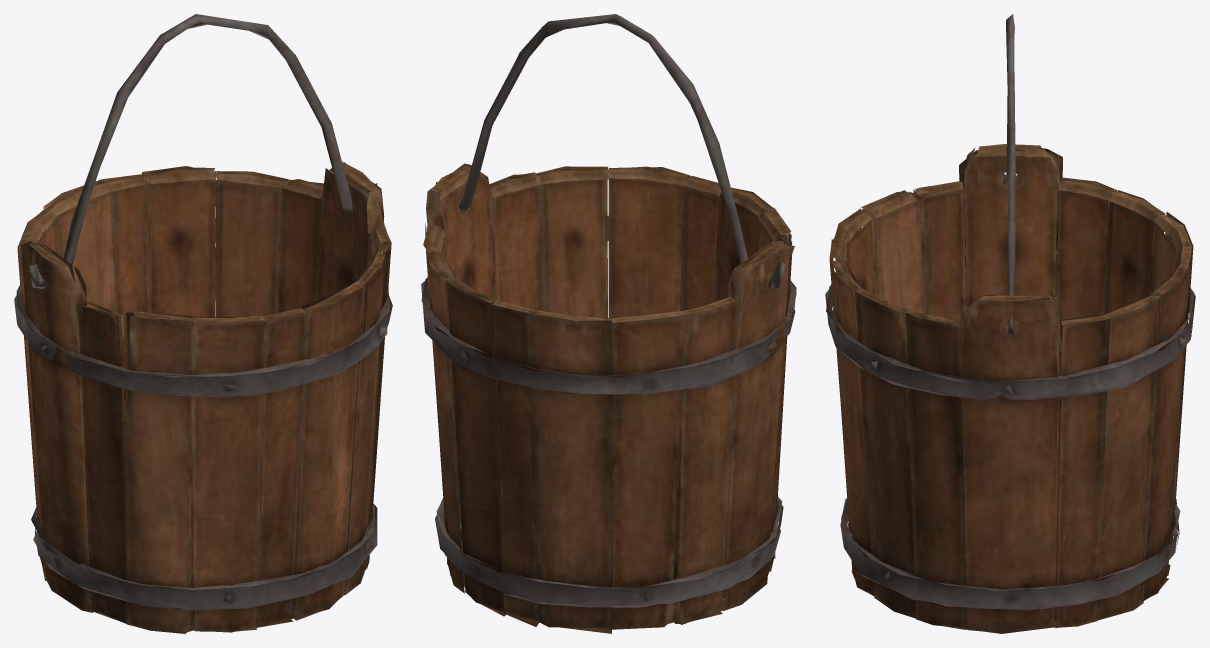
File: wooden_bucket_01.glb
3 renders of one model, left to right at view 1: azimuth 30°, elevation 25°; view 2: azimuth 150°, elevation 25°; view 3: azimuth 270°, elevation 25°, orthographic.
Parts seen in each view (by area): view 1: wooden_bucket_01, wooden_bucket_01_handle; view 2: wooden_bucket_01, wooden_bucket_01_handle; view 3: wooden_bucket_01, wooden_bucket_01_handle.
Part boxes in pixels (x1,y1,x2,y2): wooden_bucket_01: (14,162,392,633); wooden_bucket_01_handle: (29,14,377,287); wooden_bucket_01: (421,163,796,633); wooden_bucket_01_handle: (436,14,785,288); wooden_bucket_01: (825,144,1195,633); wooden_bucket_01_handle: (1006,14,1016,335).
Bounding box in the file's own units: 0.3661 × 0.5556 × 0.3418.
Materials: 1 (1 with a texture image).
